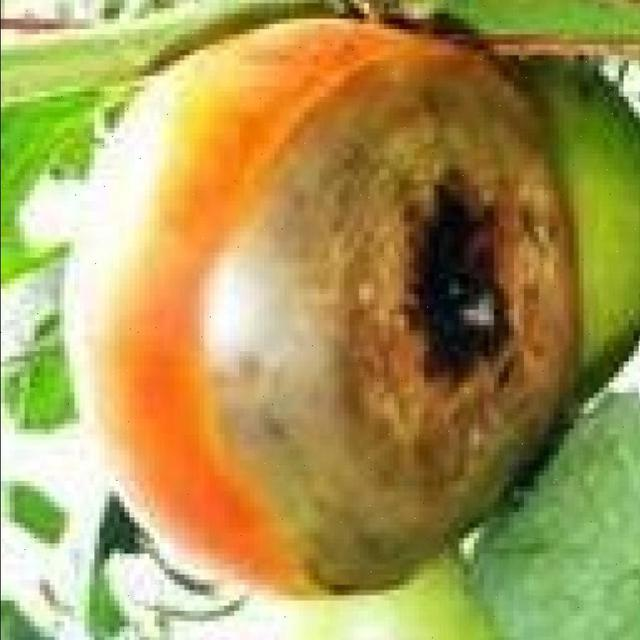Blossom End Rot Fruit: (131, 23, 377, 404)
